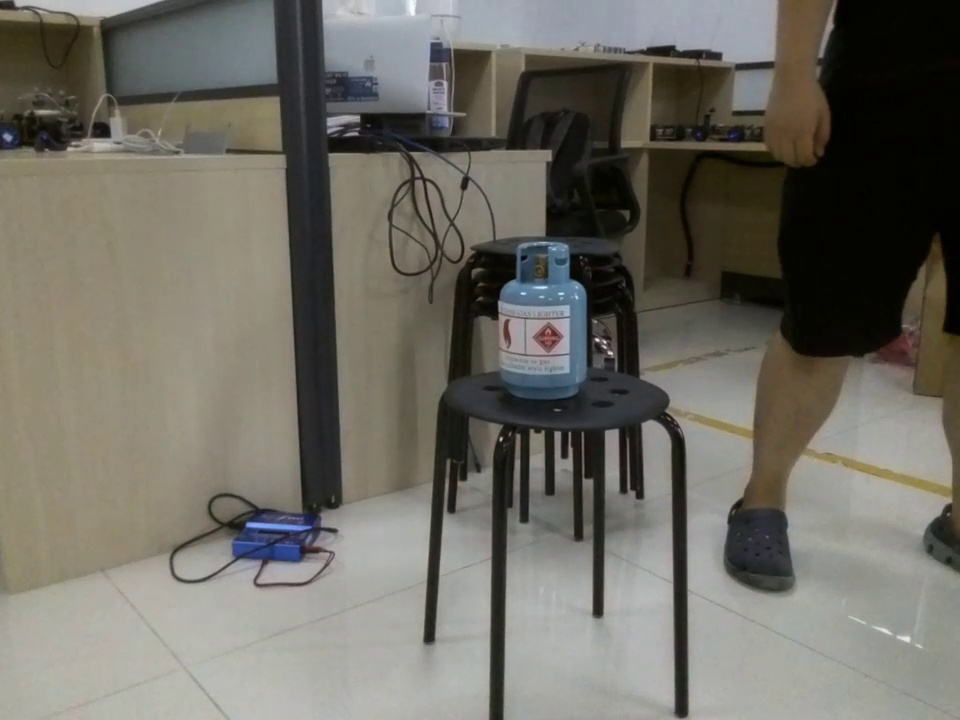gas tank: (488, 238, 594, 402)
